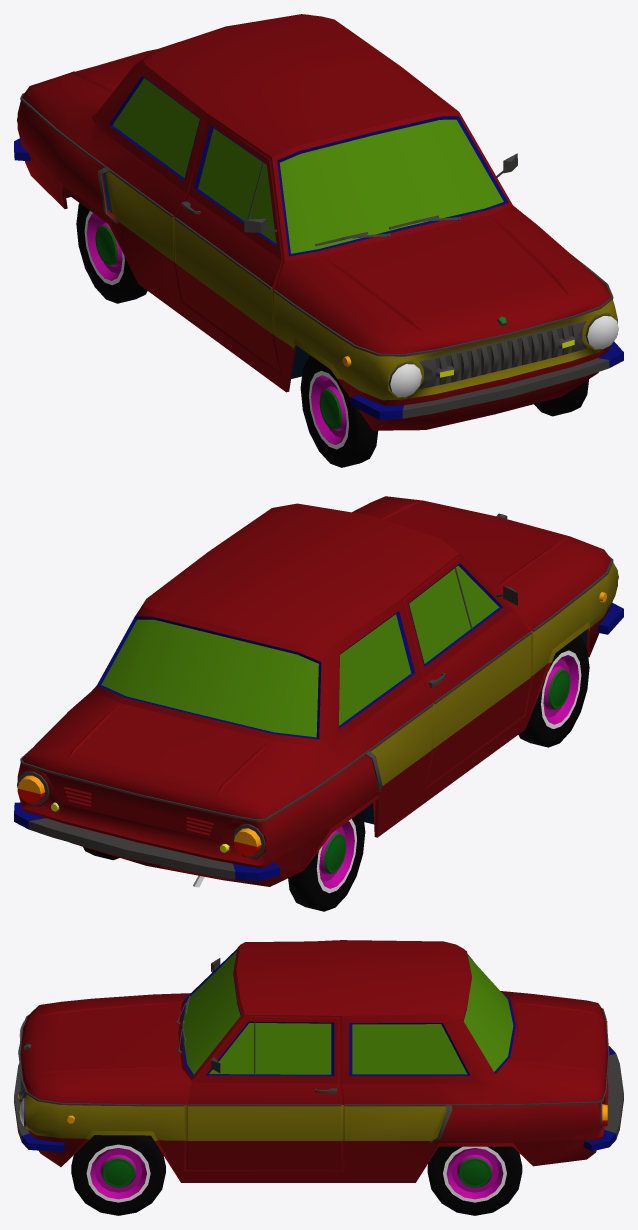
File: Zaporojec.fbx
The picture shows the model from 3 angles, top to bottom: view 1: azimuth 30°, elevation 25°; view 2: azimuth 150°, elevation 25°; view 3: azimuth 270°, elevation 25°; orthographic projection. The views are drawn at different scales.
Visible parts, largest first — view 1: Body, Wheel_FR, Wheel_RR, Wheel_FL; view 2: Body, Wheel_FR, Wheel_RR; view 3: Body, Wheel_FL, Wheel_RL.
Part boxes in pixels (left/top/right/bottom): Body: left=14, top=14, right=623, bottom=430; Wheel_FR: left=300, top=355, right=378, bottom=467; Wheel_RR: left=76, top=203, right=147, bottom=303; Wheel_FL: left=534, top=379, right=588, bottom=416; Body: left=14, top=496, right=623, bottom=887; Wheel_FR: left=518, top=635, right=589, bottom=747; Wheel_RR: left=288, top=811, right=365, bottom=911; Body: left=14, top=940, right=623, bottom=1182; Wheel_FL: left=71, top=1135, right=165, bottom=1215; Wheel_RL: left=427, top=1146, right=522, bottom=1215.
Size of the model in its own units: 154 by 138 by 371.
